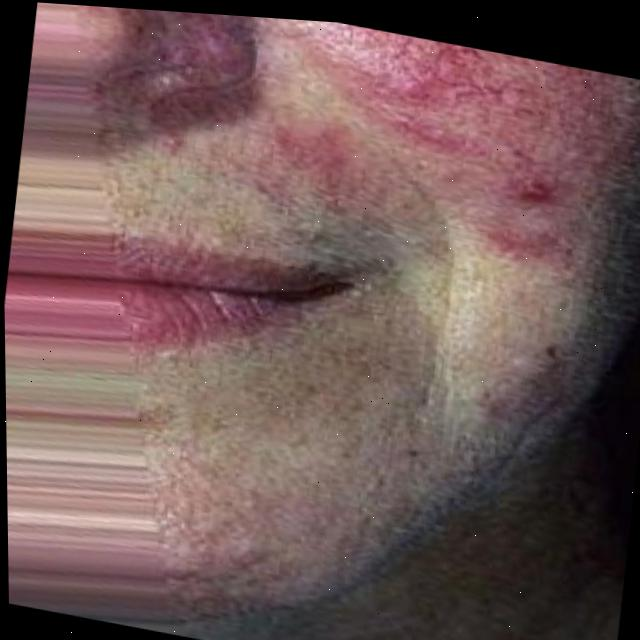Rosacea: (292, 19, 640, 283)
